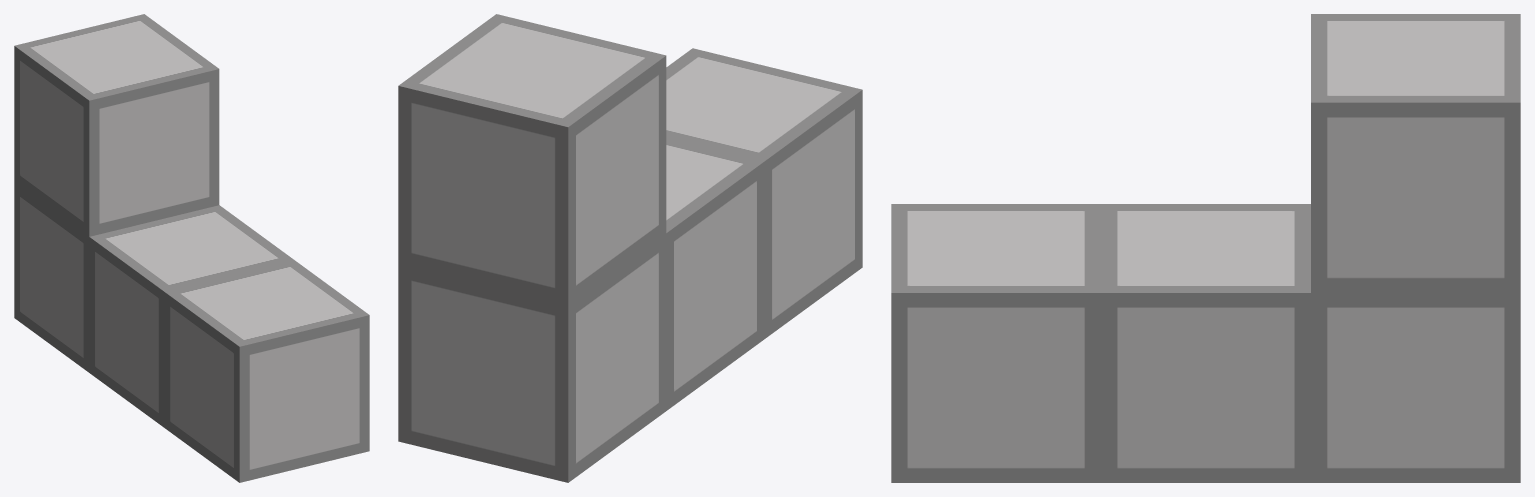
File: LpieceTri.obj
The picture shows the model from 3 angles, left to right: view 1: azimuth 30°, elevation 25°; view 2: azimuth 150°, elevation 25°; view 3: azimuth 270°, elevation 25°; orthographic projection. The views are drawn at different scales.
Visible parts, largest first — view 1: LpieceTri; view 2: LpieceTri; view 3: LpieceTri.
Boxes of the visible parts, <box> form: LpieceTri: <box>14,14,369,482</box>; LpieceTri: <box>398,14,862,482</box>; LpieceTri: <box>891,14,1520,482</box>.
Size of the model in its own units: 1 by 2 by 3.
1 material, 1 textured.
